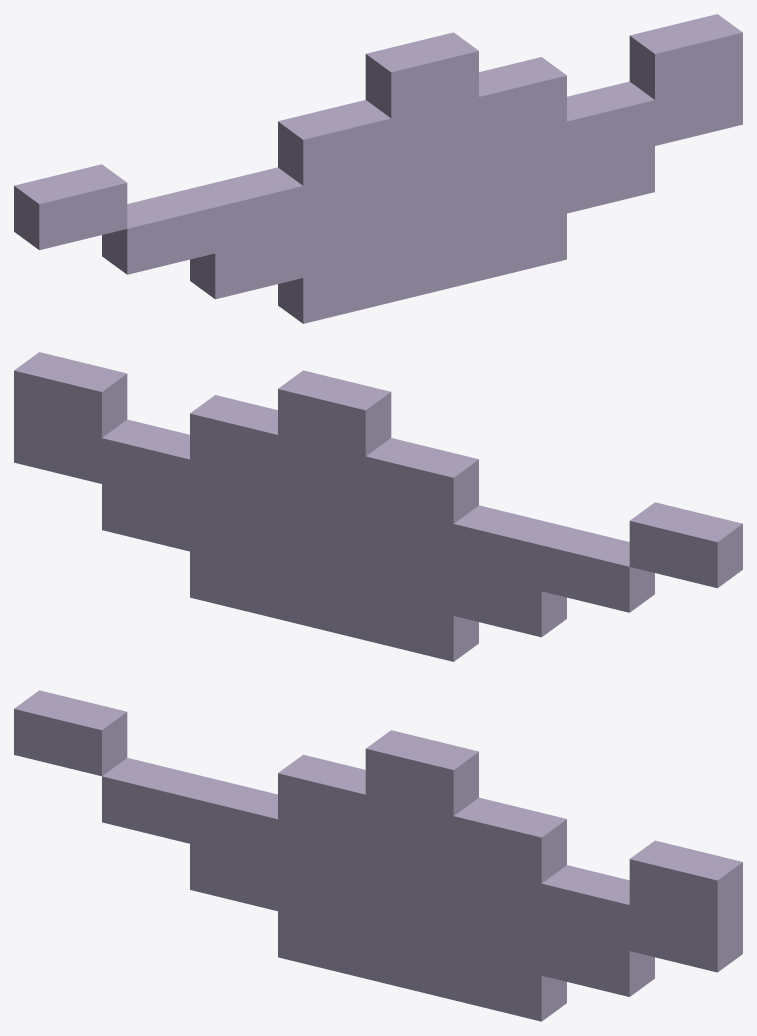
File: Lamp-Grey.vox.obj
The picture shows the model from 3 angles, top to bottom: view 1: azimuth 30°, elevation 25°; view 2: azimuth 150°, elevation 25°; view 3: azimuth 330°, elevation 25°; orthographic projection.
Bounding box in the file's own units: 1.6 × 0.5 × 0.1.
Materials: 1 (1 with a texture image).
